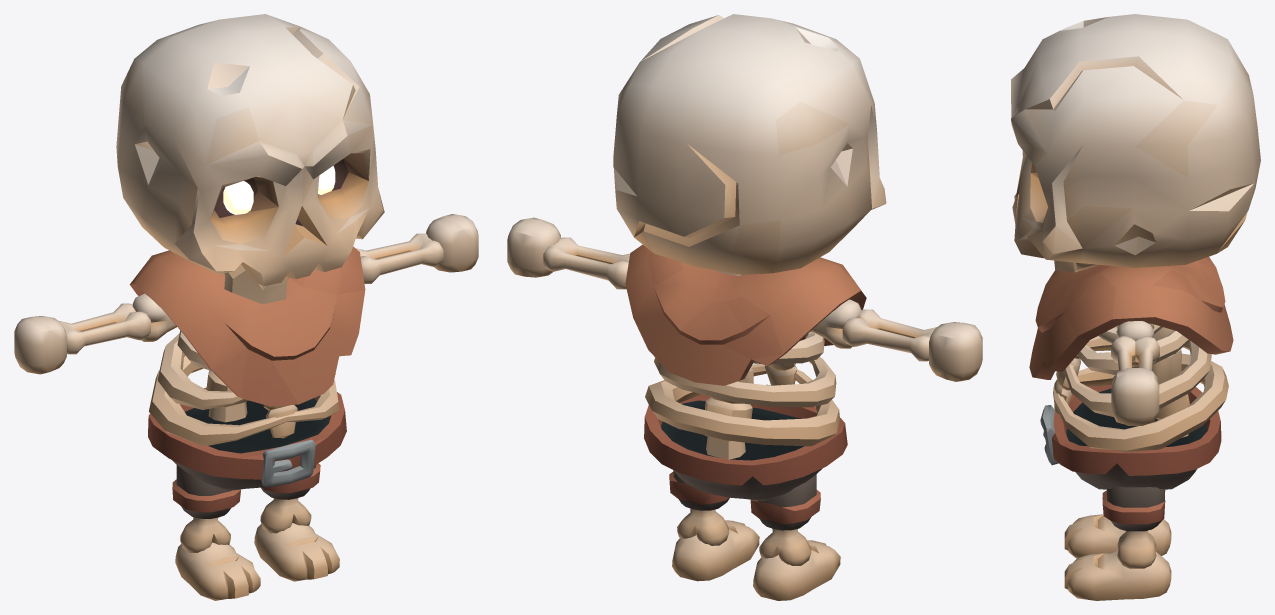
The model's file is Skeleton_Minion.glb.
The picture shows the model from 3 angles, left to right: view 1: azimuth 30°, elevation 25°; view 2: azimuth 150°, elevation 25°; view 3: azimuth 270°, elevation 25°; orthographic projection. The views are drawn at different scales.
Parts seen in each view (by area): view 1: Skeleton_Minion_Head, Skeleton_Minion_Cloak, Skeleton_Minion_Body, Skeleton_Minion_LegRight, Skeleton_Minion_ArmRight, Skeleton_Minion_LegLeft, Skeleton_Minion_ArmLeft, Skeleton_Minion_Jaw, Skeleton_Minion_Eyes; view 2: Skeleton_Minion_Head, Skeleton_Minion_Body, Skeleton_Minion_Cloak, Skeleton_Minion_LegRight, Skeleton_Minion_ArmRight, Skeleton_Minion_LegLeft, Skeleton_Minion_ArmLeft; view 3: Skeleton_Minion_Head, Skeleton_Minion_Body, Skeleton_Minion_Cloak, Skeleton_Minion_LegLeft, Skeleton_Minion_ArmLeft, Skeleton_Minion_LegRight, Skeleton_Minion_Jaw.
Part boxes in pixels (<box>): Skeleton_Minion_Head: <box>116,14,384,285</box>; Skeleton_Minion_Cloak: <box>130,246,365,406</box>; Skeleton_Minion_Body: <box>148,330,346,490</box>; Skeleton_Minion_LegRight: <box>172,465,260,600</box>; Skeleton_Minion_ArmRight: <box>14,293,176,374</box>; Skeleton_Minion_LegLeft: <box>254,463,339,581</box>; Skeleton_Minion_ArmLeft: <box>355,214,478,283</box>; Skeleton_Minion_Jaw: <box>224,264,288,304</box>; Skeleton_Minion_Eyes: <box>223,165,335,214</box>; Skeleton_Minion_Head: <box>613,14,886,274</box>; Skeleton_Minion_Body: <box>644,270,847,501</box>; Skeleton_Minion_Cloak: <box>625,244,866,385</box>; Skeleton_Minion_LegRight: <box>750,474,840,600</box>; Skeleton_Minion_ArmRight: <box>810,299,982,381</box>; Skeleton_Minion_LegLeft: <box>669,470,759,581</box>; Skeleton_Minion_ArmLeft: <box>507,217,630,289</box>; Skeleton_Minion_Head: <box>1011,14,1260,267</box>; Skeleton_Minion_Body: <box>1040,324,1228,489</box>; Skeleton_Minion_Cloak: <box>1029,256,1233,379</box>; Skeleton_Minion_LegLeft: <box>1064,487,1171,600</box>; Skeleton_Minion_ArmLeft: <box>1111,321,1159,425</box>; Skeleton_Minion_LegRight: <box>1064,514,1171,558</box>; Skeleton_Minion_Jaw: <box>1054,260,1098,272</box>.
Size of the model in its own units: 1.94 by 2.17 by 0.9122.
Materials: 2 (1 with a texture image).
